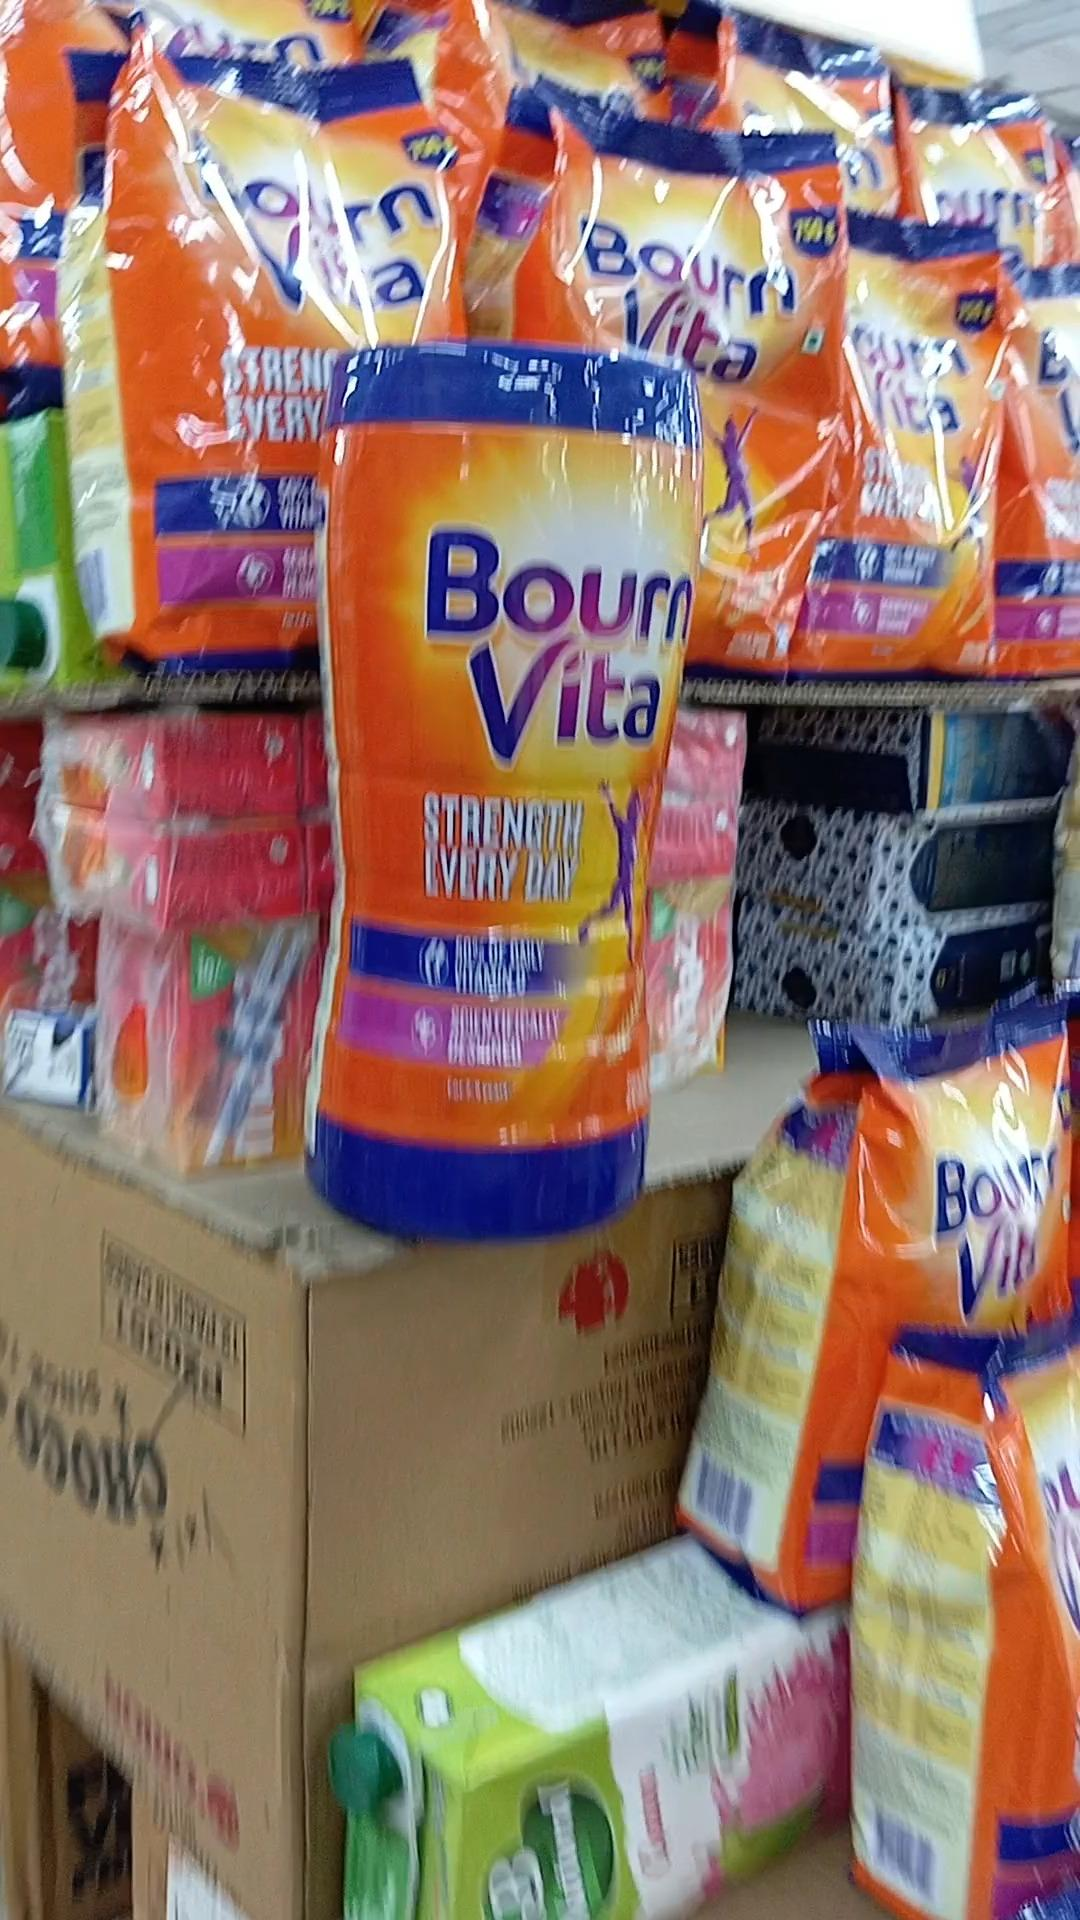BOURN_VITA_1_KG_JAR: (328, 335, 670, 1222)
